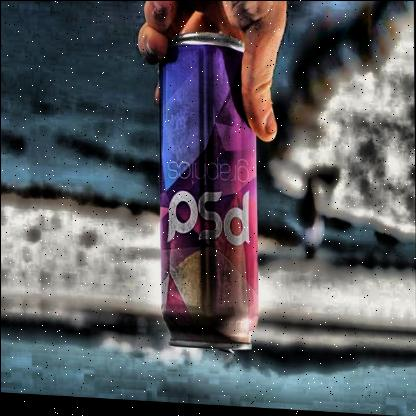Can: (158, 29, 258, 350)
